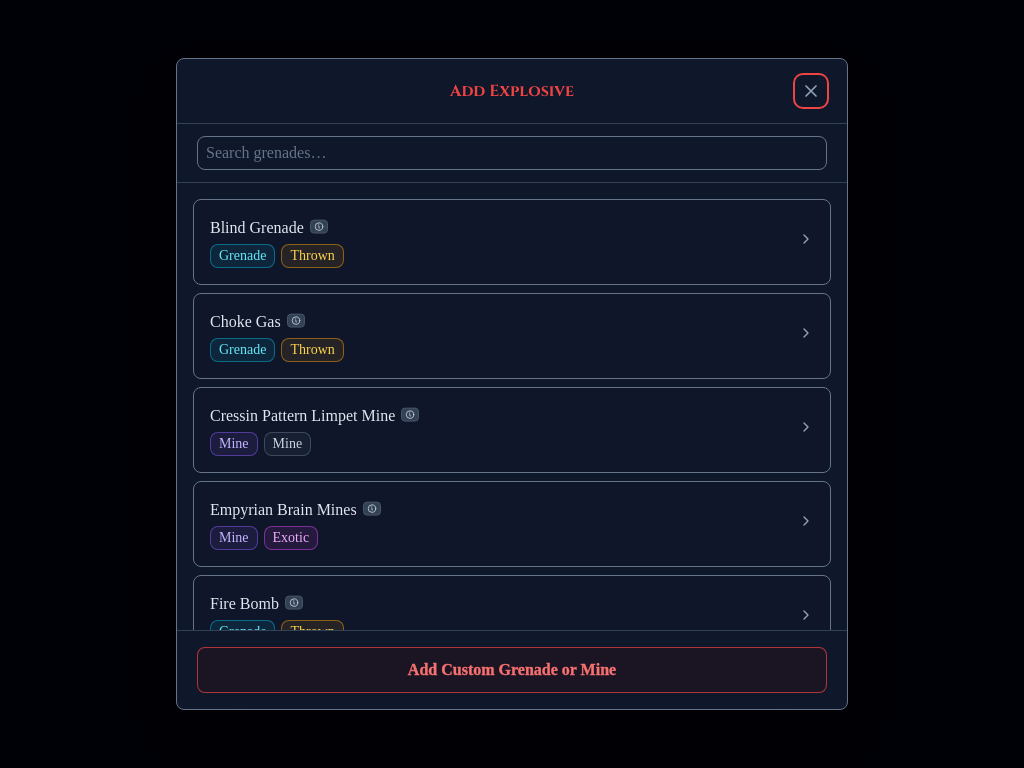
Test case: GrenadePicker › filters the list by search query
Type "Frag" into the search field with placeholder "Search grenades…" at (512, 153), box [197, 136, 827, 170]
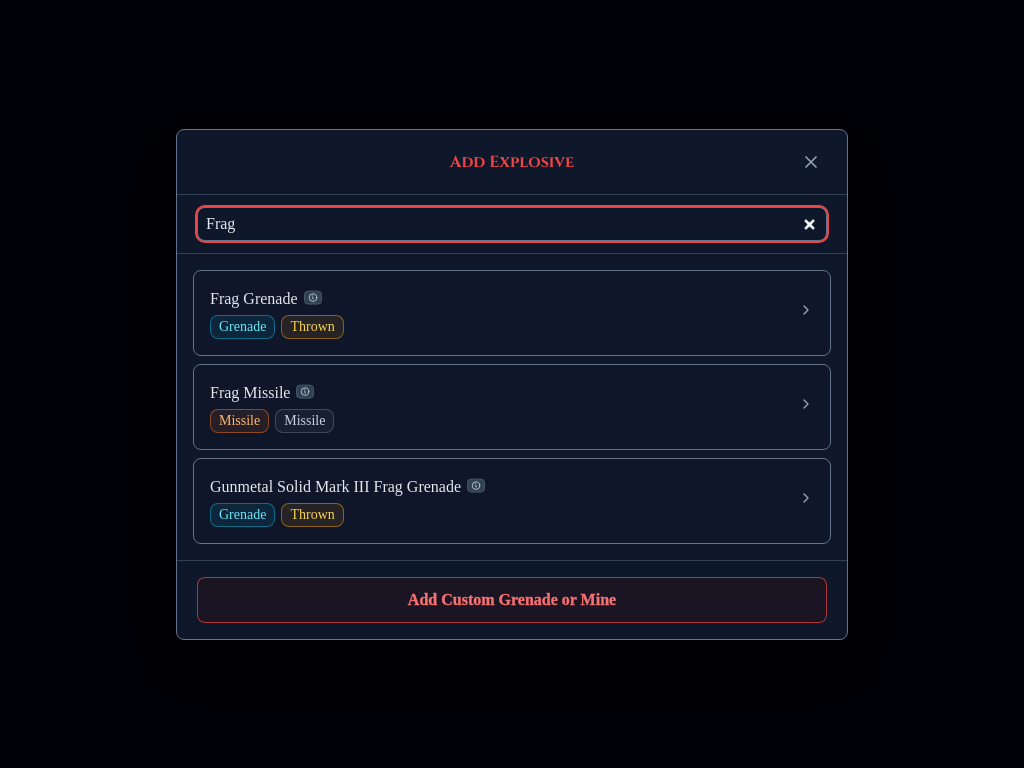
expect the text "Empyrian Brain Mines" is not shown: met
